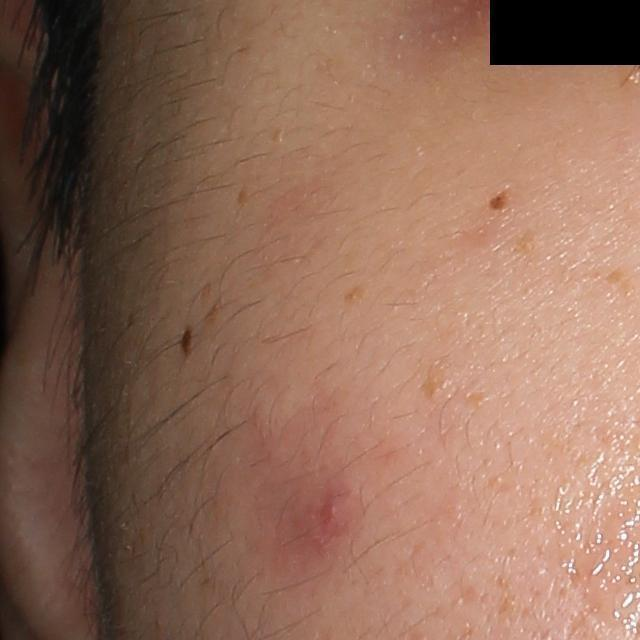melasma: (419, 361, 454, 400), (601, 268, 635, 295), (343, 284, 367, 305), (236, 183, 252, 206)
nevus: (487, 183, 512, 213), (177, 323, 194, 360)
papule: (312, 485, 359, 533)
